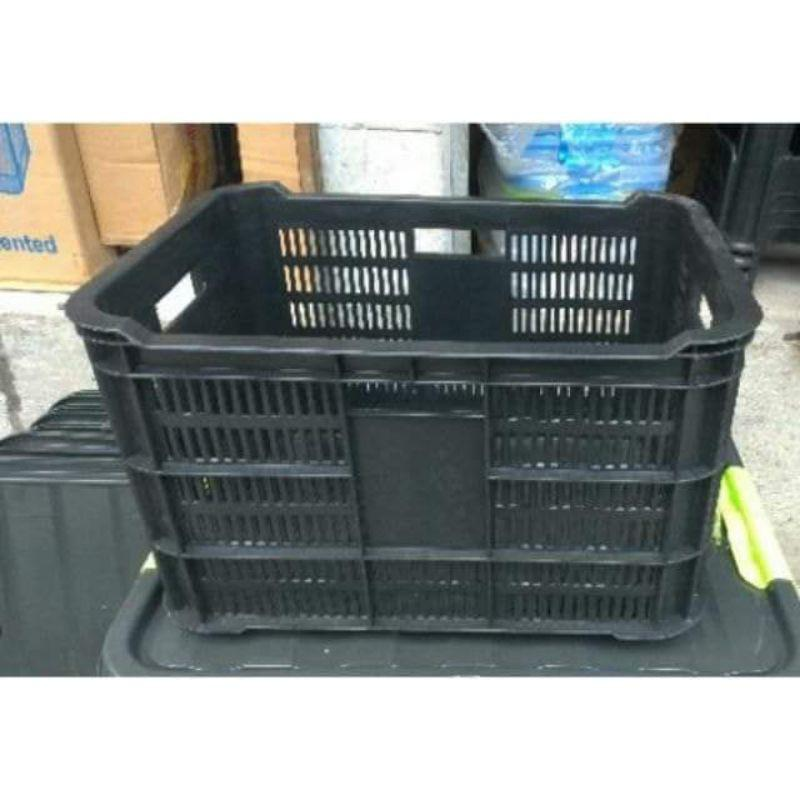plastic: (66, 186, 795, 673)
